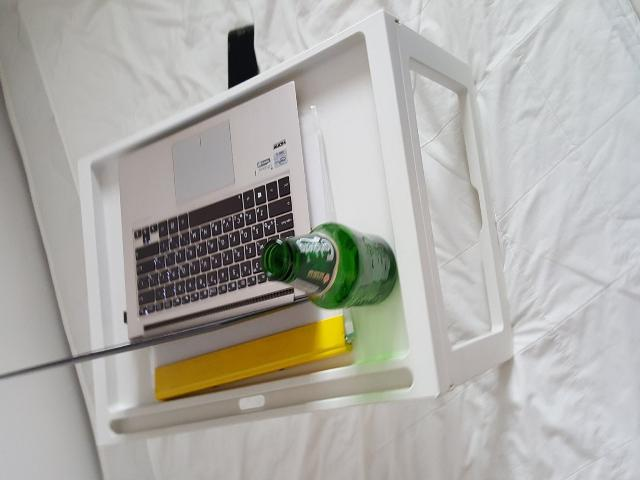beer: (262, 224, 397, 308)
